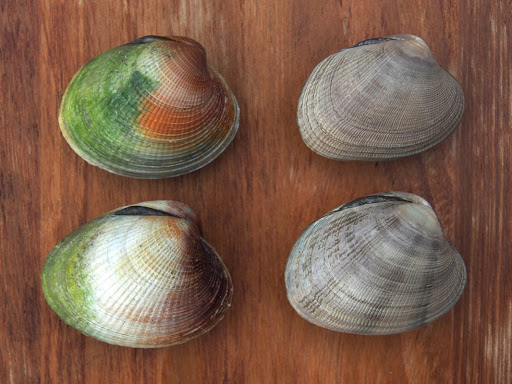cockle: (40, 199, 234, 351), (280, 189, 471, 336), (53, 31, 239, 178), (294, 32, 467, 162)
